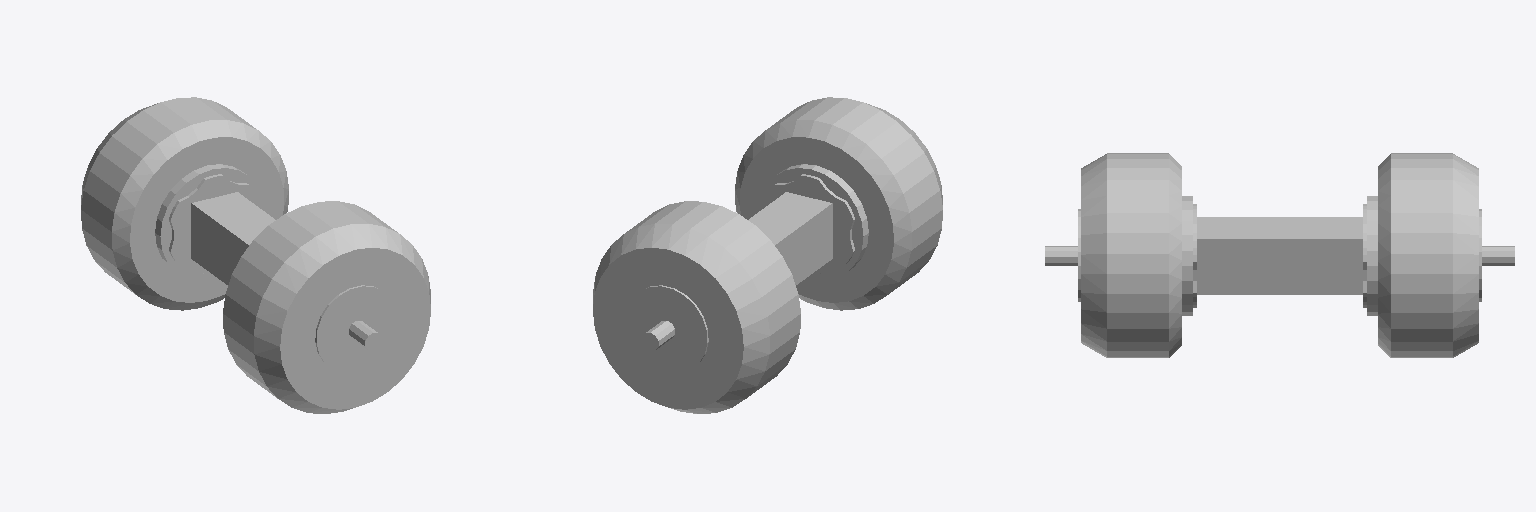
The model's file is Motors_fwd_1_optimized.obj.
The picture shows the model from 3 angles: view 1: azimuth 30°, elevation 25°; view 2: azimuth 150°, elevation 25°; view 3: azimuth 270°, elevation 25°; orthographic projection.
Parts seen in each view (by area): view 1: Body41; view 2: Body41; view 3: Body41.
Part boxes in pixels (bbox=[...]): Body41: bbox=[81, 97, 430, 413]; Body41: bbox=[593, 97, 942, 413]; Body41: bbox=[1045, 153, 1514, 357].
Bounding box in the file's own units: 153 × 153 × 352.